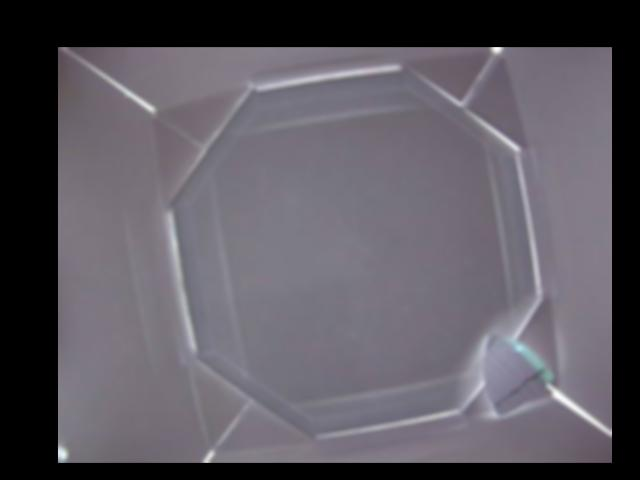China: (479, 327, 556, 416)
